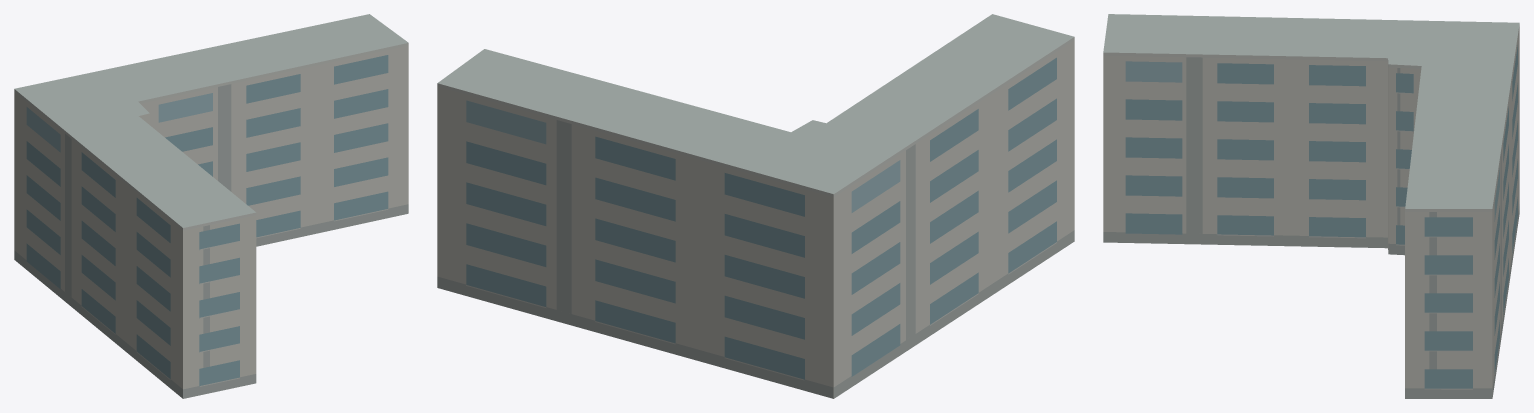
The model's file is survey-upis-32964169.glb.
The picture shows the model from 3 angles, left to right: view 1: azimuth 30°, elevation 25°; view 2: azimuth 150°, elevation 25°; view 3: azimuth 270°, elevation 25°; orthographic projection. The views are drawn at different scales.
Parts seen in each view (by area): view 1: survey-upis-32964169.tmp; view 2: survey-upis-32964169.tmp; view 3: survey-upis-32964169.tmp.
Boxes of the visible parts, bbox=[...] form: survey-upis-32964169.tmp: bbox=[14, 14, 408, 398]; survey-upis-32964169.tmp: bbox=[437, 14, 1074, 398]; survey-upis-32964169.tmp: bbox=[1103, 14, 1519, 398].
Bounding box in the file's own units: 33.57 × 15.25 × 30.3.
